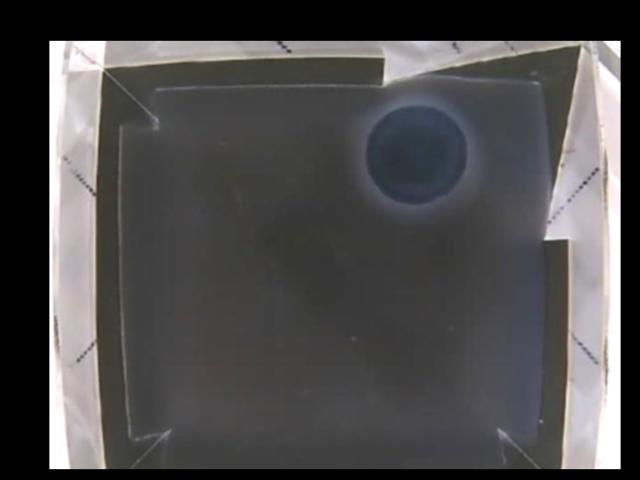Mooli: (368, 105, 471, 206)
